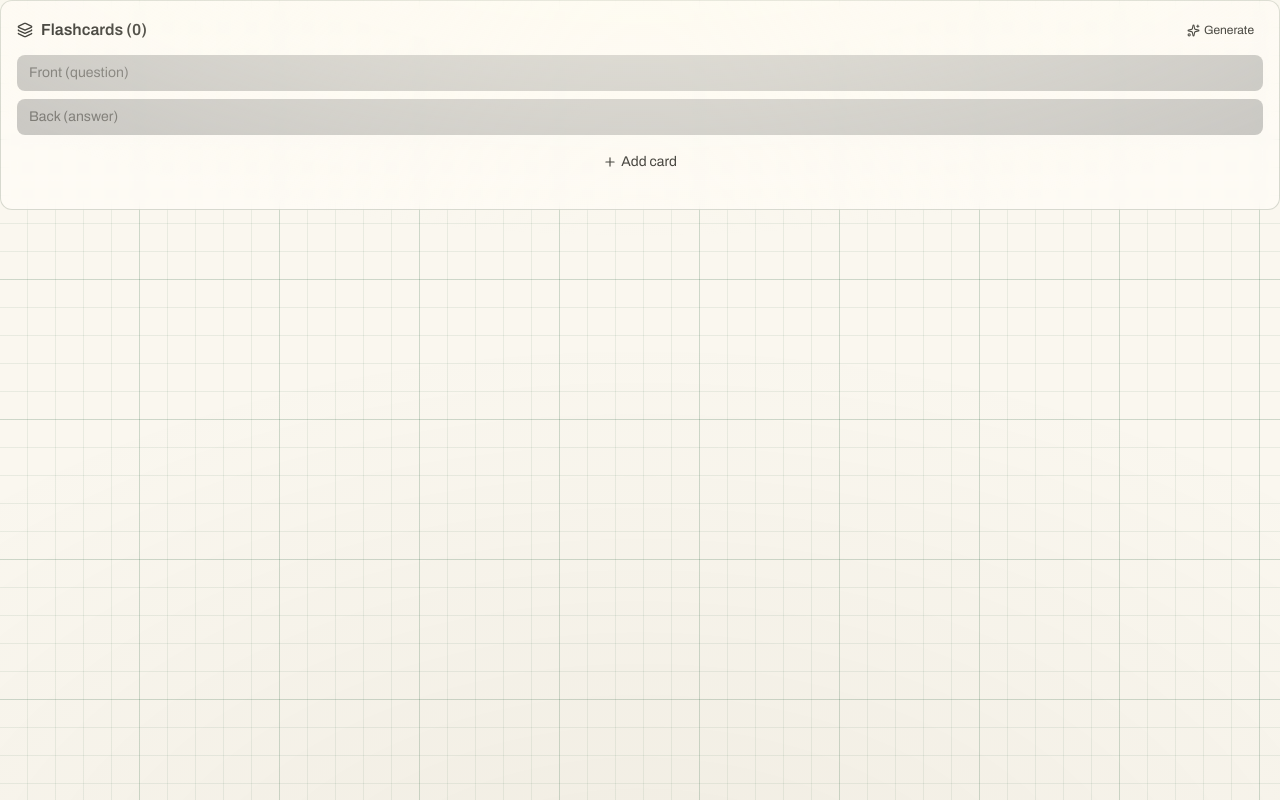
Test case: surfaces a quota message without saving anything
The width and height of the screenshot is (1280, 800).
Click the button "Generate". click: (1220, 30)
box: [1178,17,1263,43]
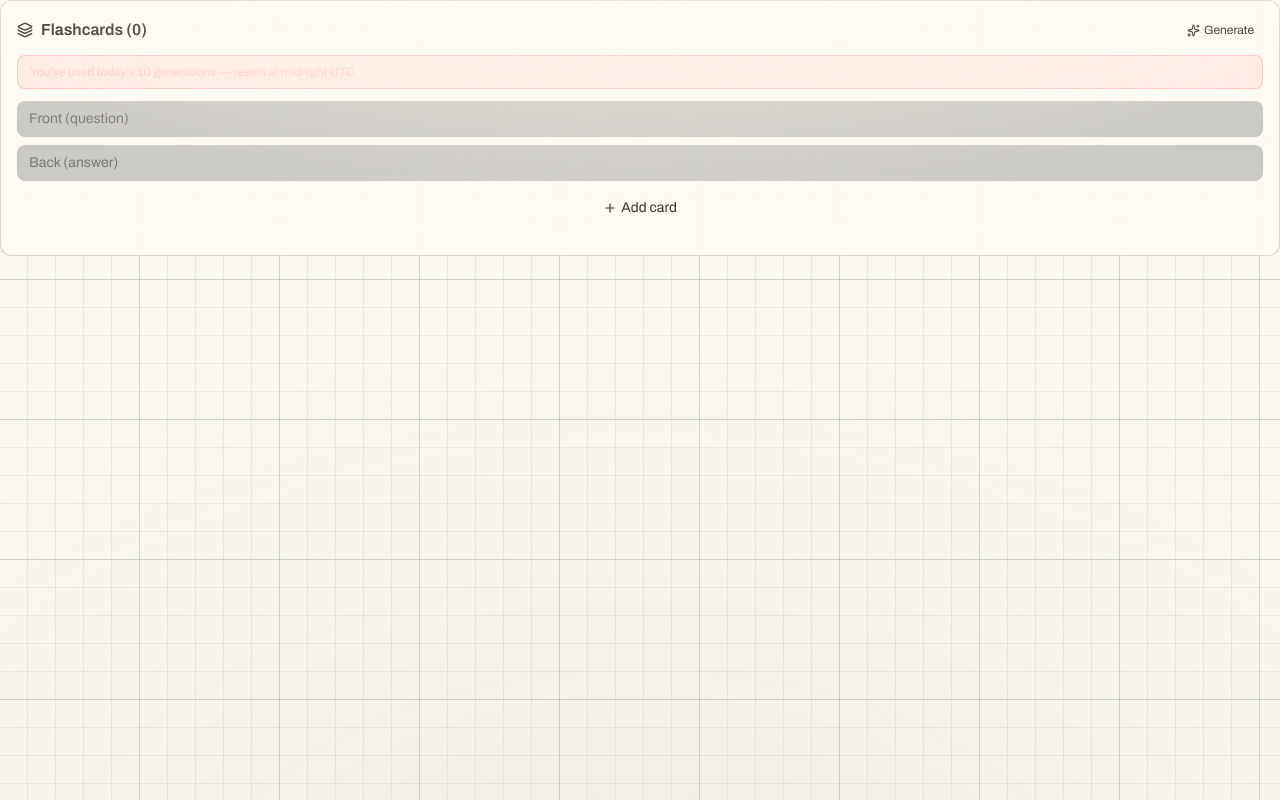
Expected: the text "You've used today's 10 generations — resets at midnight UTC." is shown, [17,55,1263,89]
